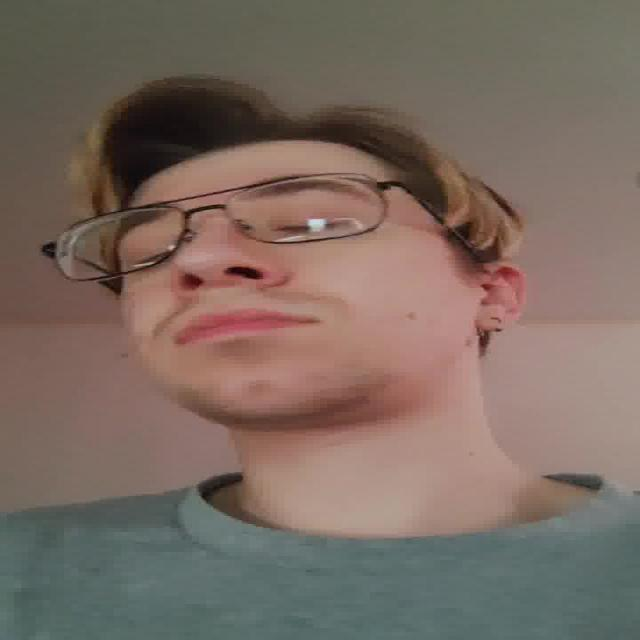earlobe: (474, 310, 516, 332)
eye: (265, 218, 356, 234), (130, 246, 176, 266)
nose: (169, 275, 286, 315)
wholeear: (473, 261, 528, 332)
